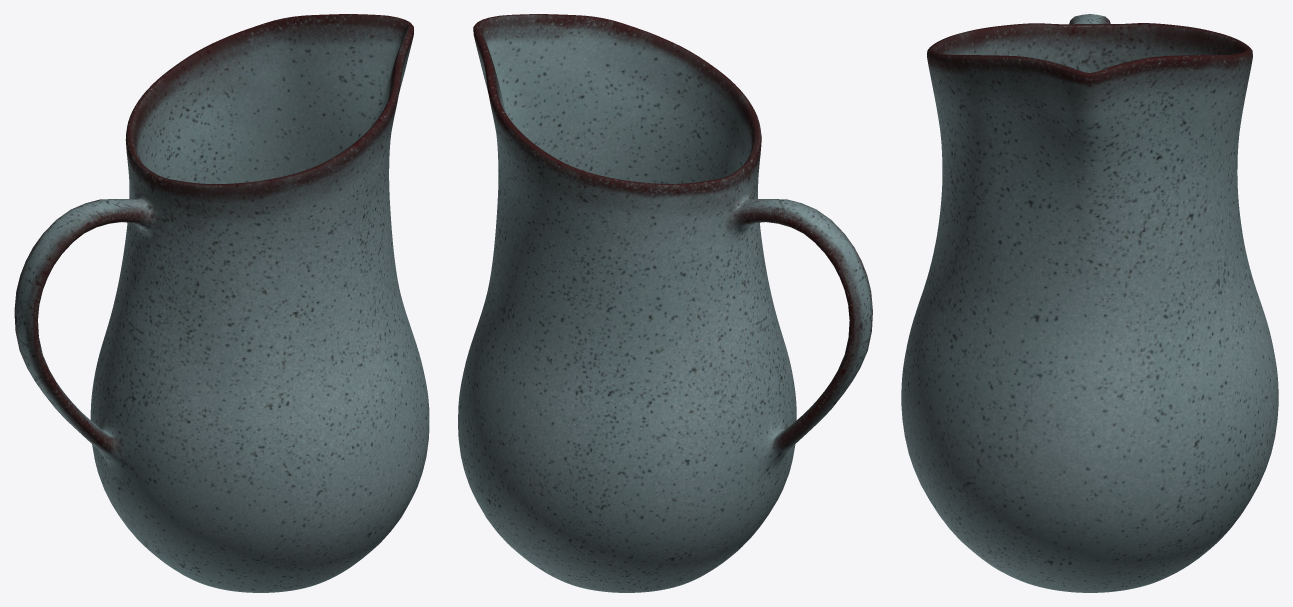
Rendered from BIT002.glb.
3 renders of one model, left to right at view 1: azimuth 30°, elevation 25°; view 2: azimuth 150°, elevation 25°; view 3: azimuth 270°, elevation 25°, orthographic. The views are drawn at different scales.
Parts seen in each view (by area): view 1: Pitcher; view 2: Pitcher; view 3: Pitcher.
Part boxes in pixels (x1,y1,x2,y2): Pitcher: [14, 14, 429, 592]; Pitcher: [458, 14, 872, 592]; Pitcher: [901, 14, 1278, 592].
Size of the model in its own units: 0.1966 by 0.2403 by 0.1462.
Materials: 1 (1 with a texture image).
